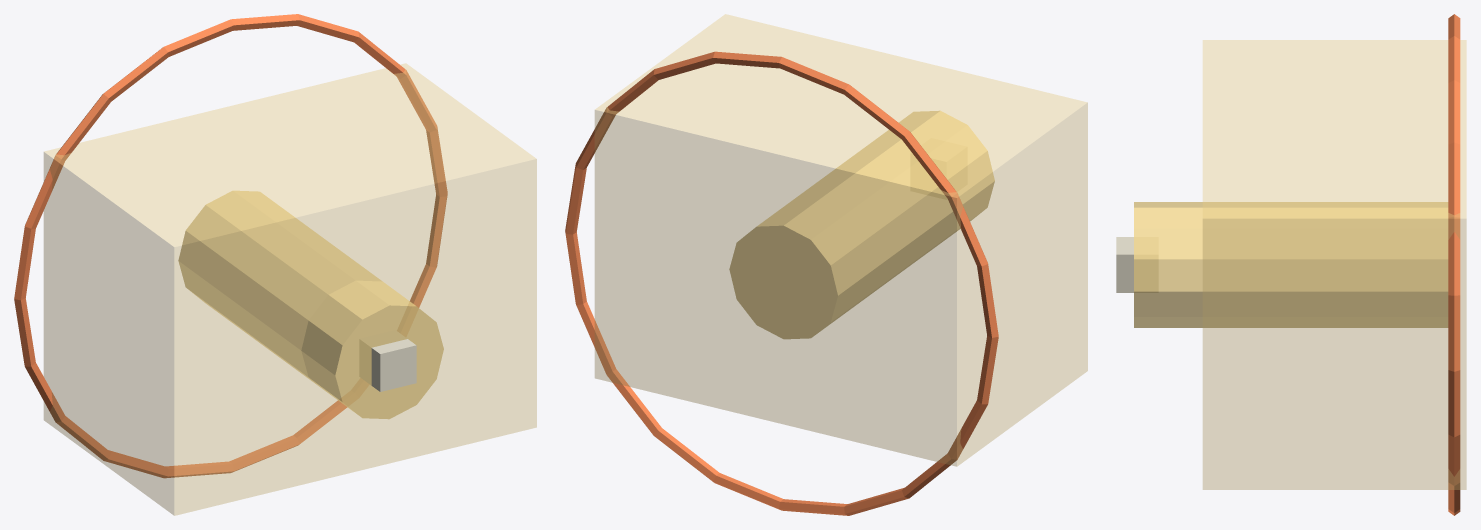
File: 01_lod_collision_overlay_1.glb
3 views of the same model, side by side, from view 1: azimuth 30°, elevation 25°; view 2: azimuth 150°, elevation 25°; view 3: azimuth 270°, elevation 25° (orthographic).
Visible parts, largest first — view 1: lod_proxy_box, capsule_hint_center, bounds_ring_floor, pivot_marker; view 2: lod_proxy_box, capsule_hint_center, bounds_ring_floor; view 3: lod_proxy_box, capsule_hint_center, bounds_ring_floor, pivot_marker.
Part boxes in pixels (x1,y1,x2,y2): lod_proxy_box: (44, 63, 536, 515); capsule_hint_center: (178, 190, 443, 419); bounds_ring_floor: (14, 14, 447, 478); pivot_marker: (360, 330, 416, 391); lod_proxy_box: (595, 14, 1087, 466); capsule_hint_center: (729, 110, 994, 339); bounds_ring_floor: (565, 51, 998, 515); lod_proxy_box: (1203, 40, 1466, 489); capsule_hint_center: (1134, 202, 1448, 327); bounds_ring_floor: (1448, 14, 1460, 515); pivot_marker: (1116, 237, 1157, 292).
Size of the model in its own units: 1.44 by 1.44 by 0.995.
